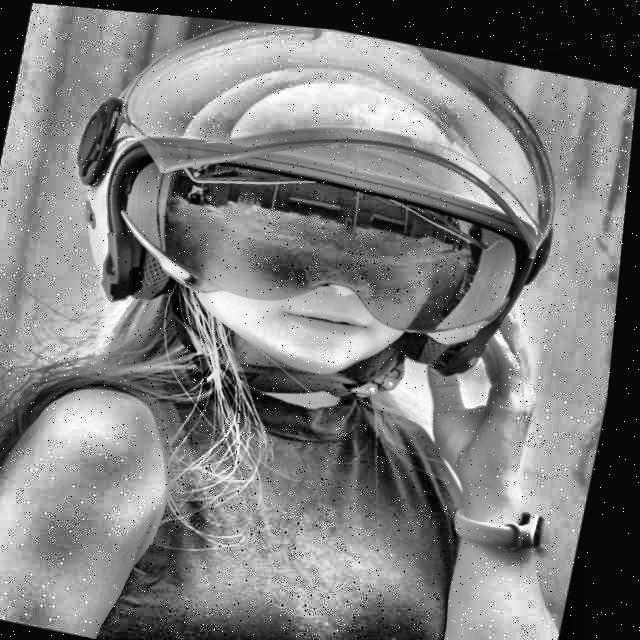Helmet: (27, 4, 598, 444)
